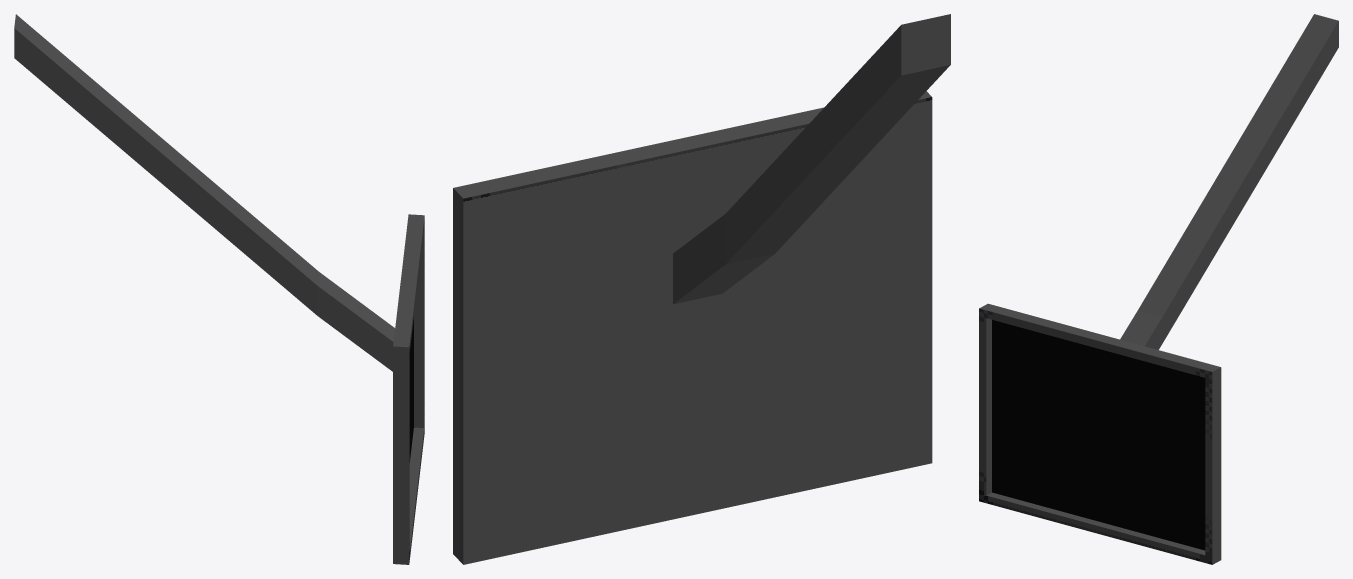
File: monitor.glb
3 views of the same model, side by side, from view 1: azimuth 30°, elevation 25°; view 2: azimuth 150°, elevation 25°; view 3: azimuth 270°, elevation 25° (orthographic). The views are drawn at different scales.
Visible parts, largest first — view 1: Monitor1; view 2: Monitor1; view 3: Monitor1.
Part boxes in pixels (left/top/right/bottom): Monitor1: left=14, top=14, right=424, bottom=564; Monitor1: left=453, top=14, right=950, bottom=564; Monitor1: left=979, top=14, right=1338, bottom=564.
Bounding box in the file's own units: 4.29 × 5.21 × 4.26.
1 material, 1 textured.
